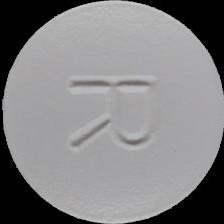55111-626: (0, 0, 224, 224)
